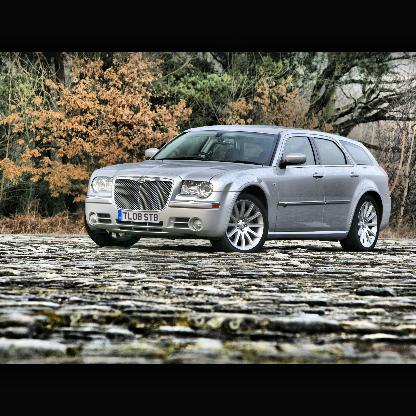Chrysler 300 SRT-8 2010: (85, 124, 393, 255)
